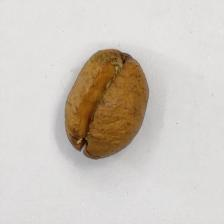NG: (73, 52, 132, 143)
